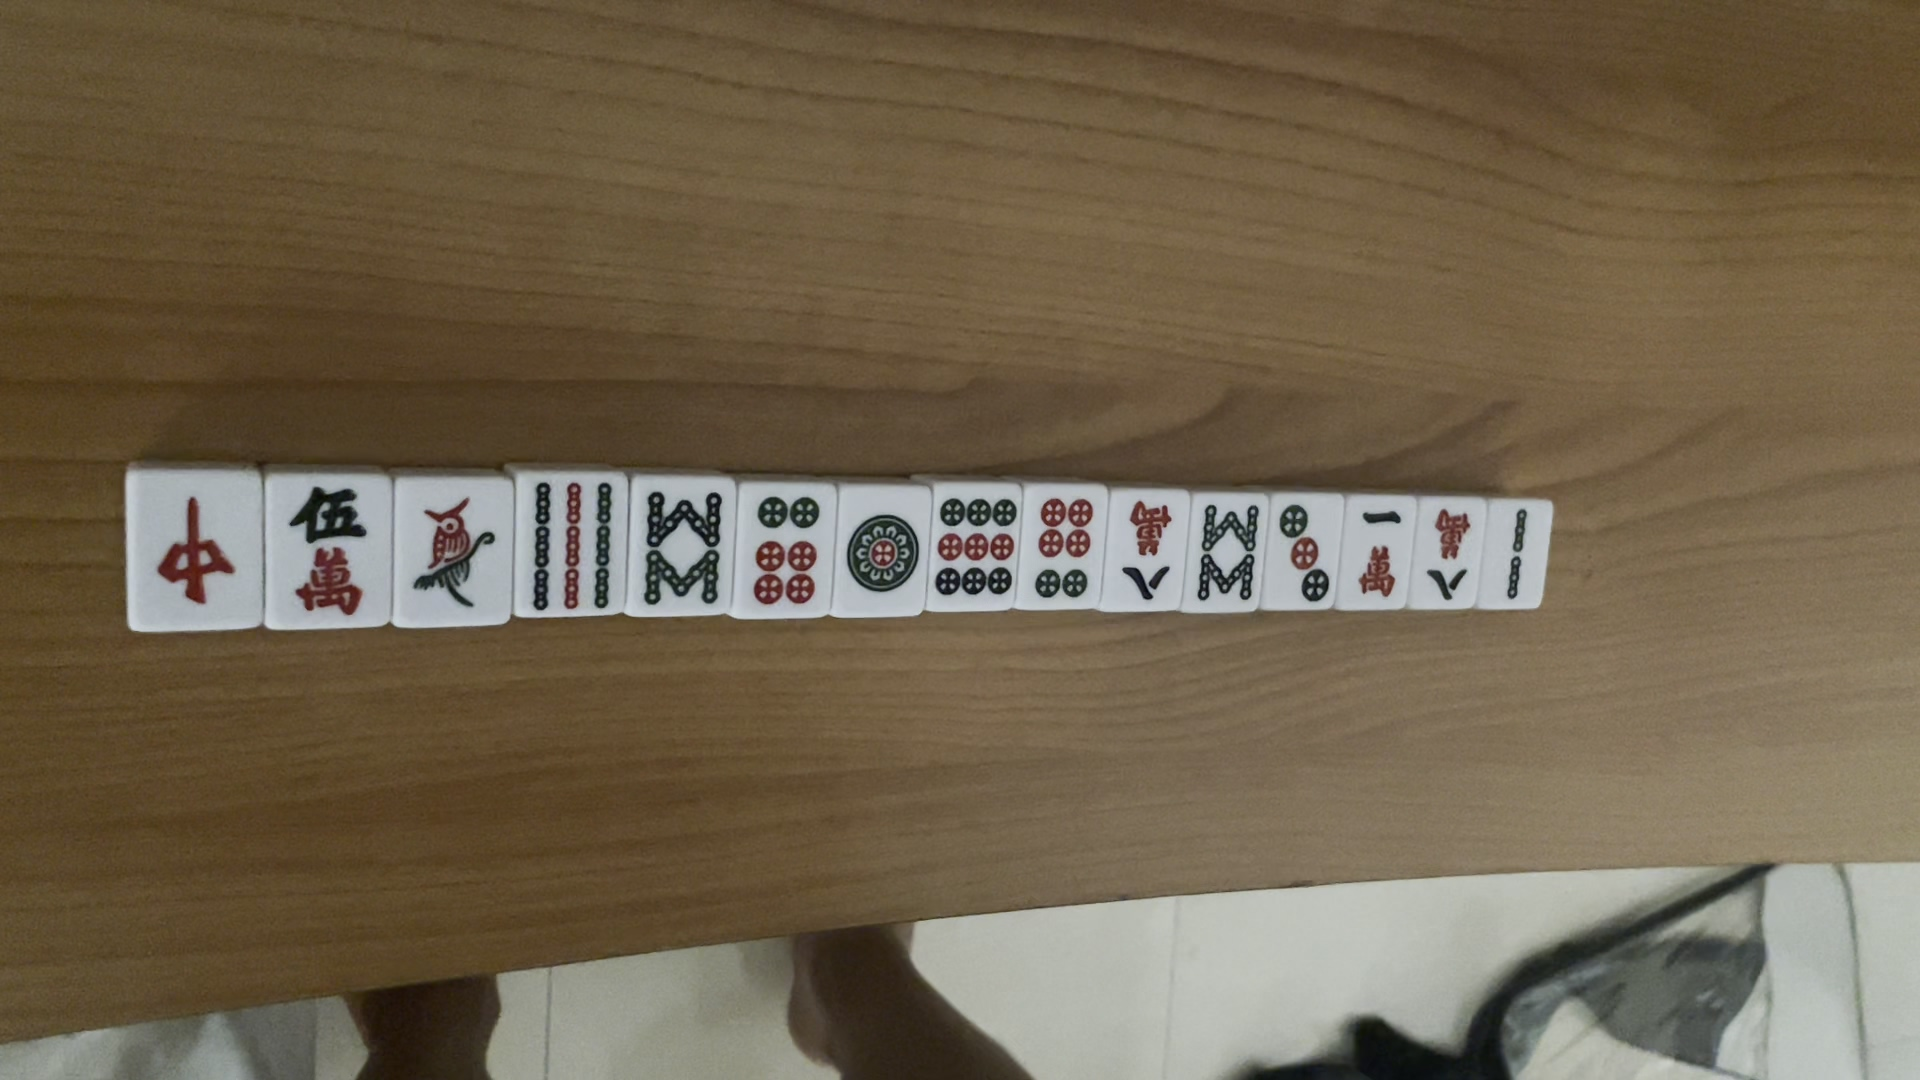b-1: (406, 491, 502, 617)
b-2: (1494, 502, 1534, 603)
b-8: (632, 492, 728, 607), (1197, 495, 1265, 607)
b-9: (522, 477, 618, 617)
c-1: (1346, 505, 1414, 593)
c-5: (286, 475, 378, 618)
c-8: (1120, 489, 1180, 609), (1415, 504, 1477, 607)
d-1: (835, 508, 931, 604), (1283, 495, 1338, 607)
d-6: (738, 493, 825, 608), (1035, 493, 1102, 603)
d-9: (935, 491, 1021, 601)
honors-red: (149, 479, 241, 624)
